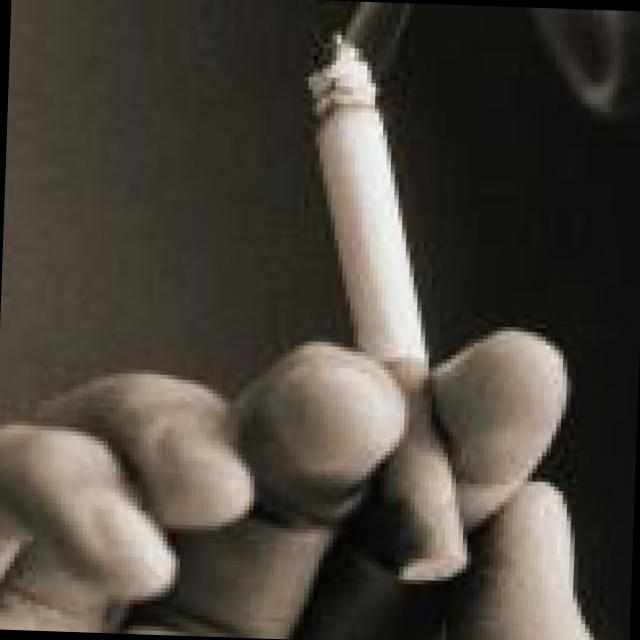smoke: (274, 19, 503, 594)
